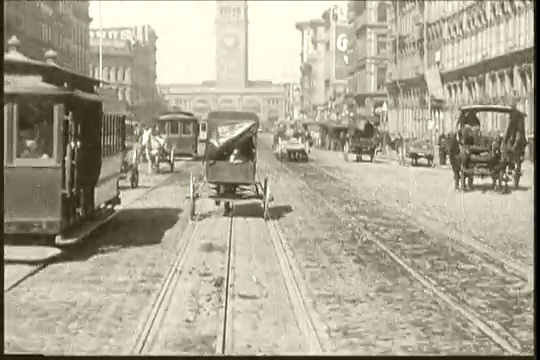carriage: (185, 107, 283, 226), (429, 92, 528, 199), (339, 110, 386, 174), (267, 119, 317, 174), (391, 124, 437, 172)
horse: (137, 127, 180, 177)
trolley: (150, 105, 200, 160)
